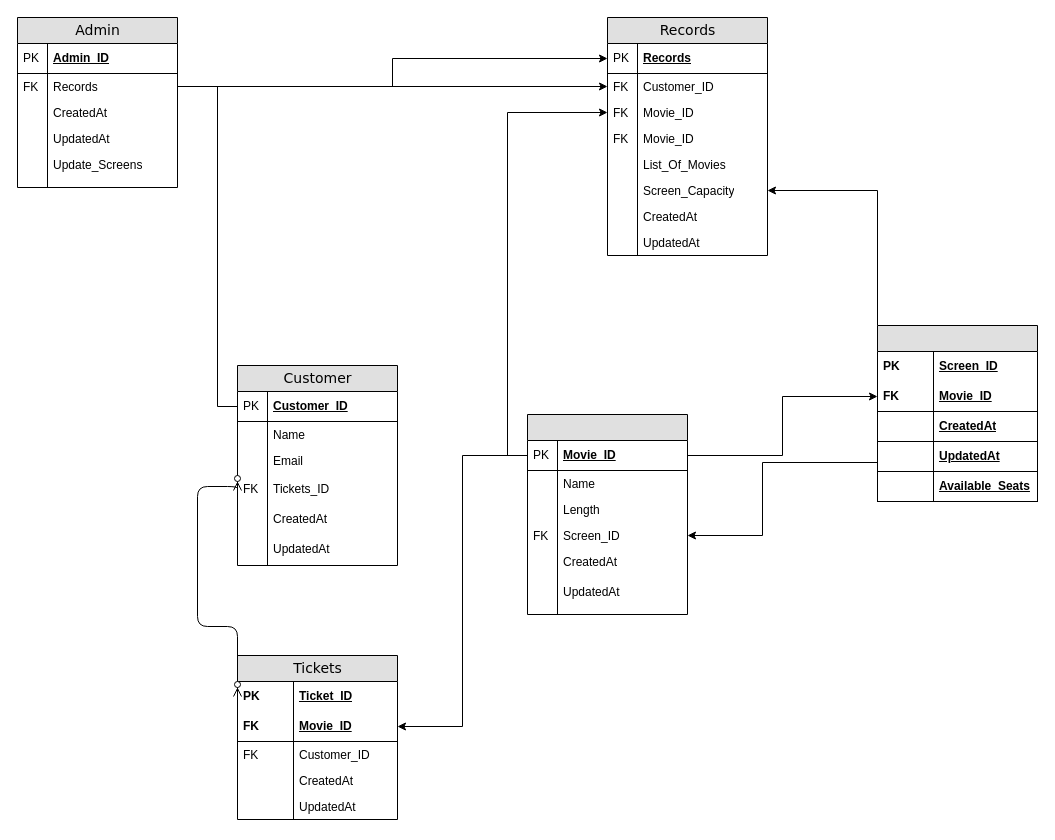
This 1055x840 diagram has some shape labels left out. The shapes that lost their labels are listed below. From the top down, each one's box as (x1, y1, x2, y2) in pixels, then its label:
(876, 324, 1038, 502): Screens
(526, 414, 688, 614): Movies
